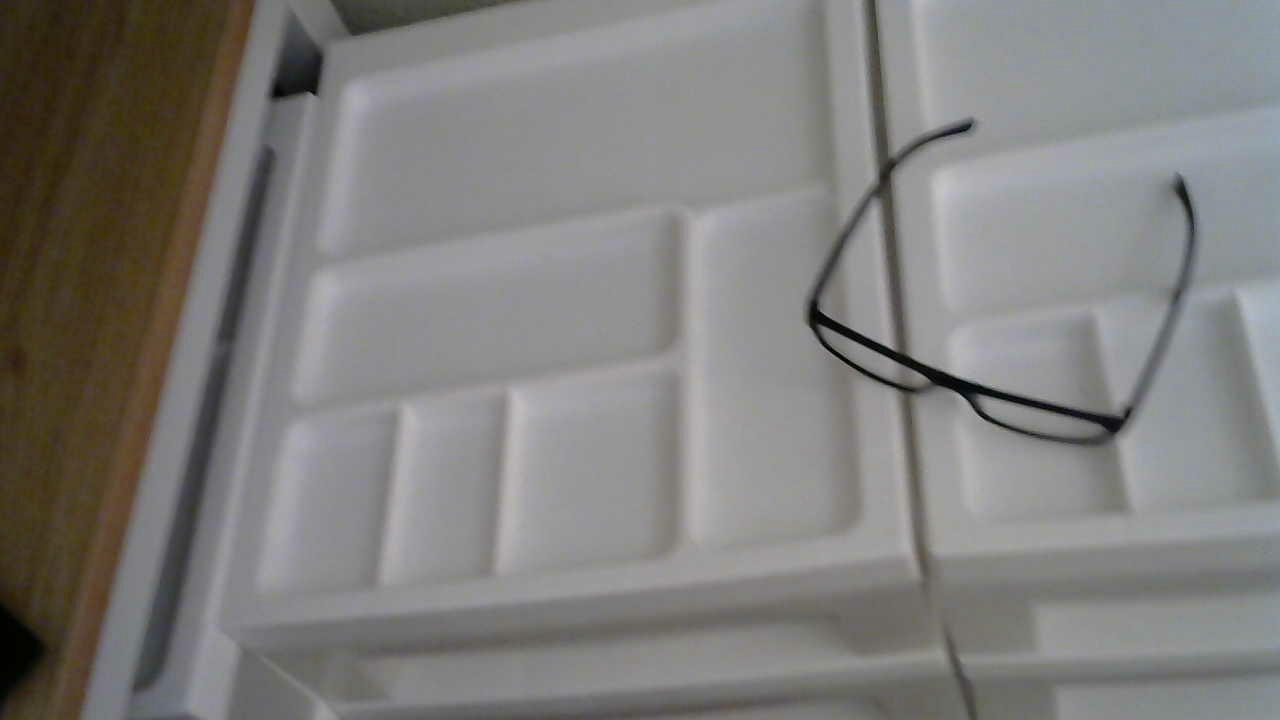Glasses: (763, 132, 1215, 472)
